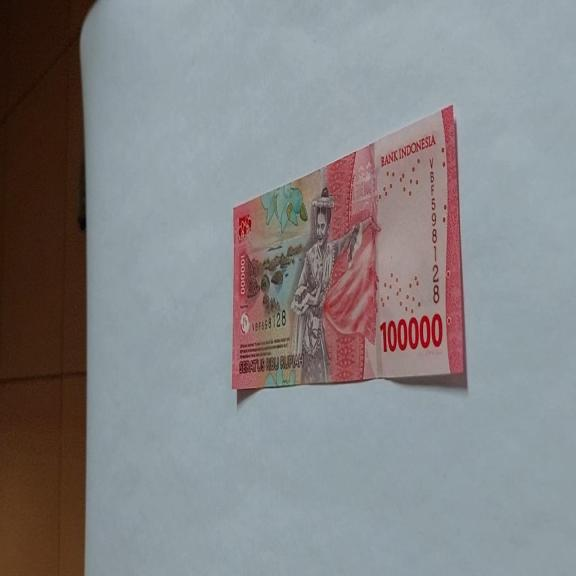Kertas: (379, 311, 443, 354)
